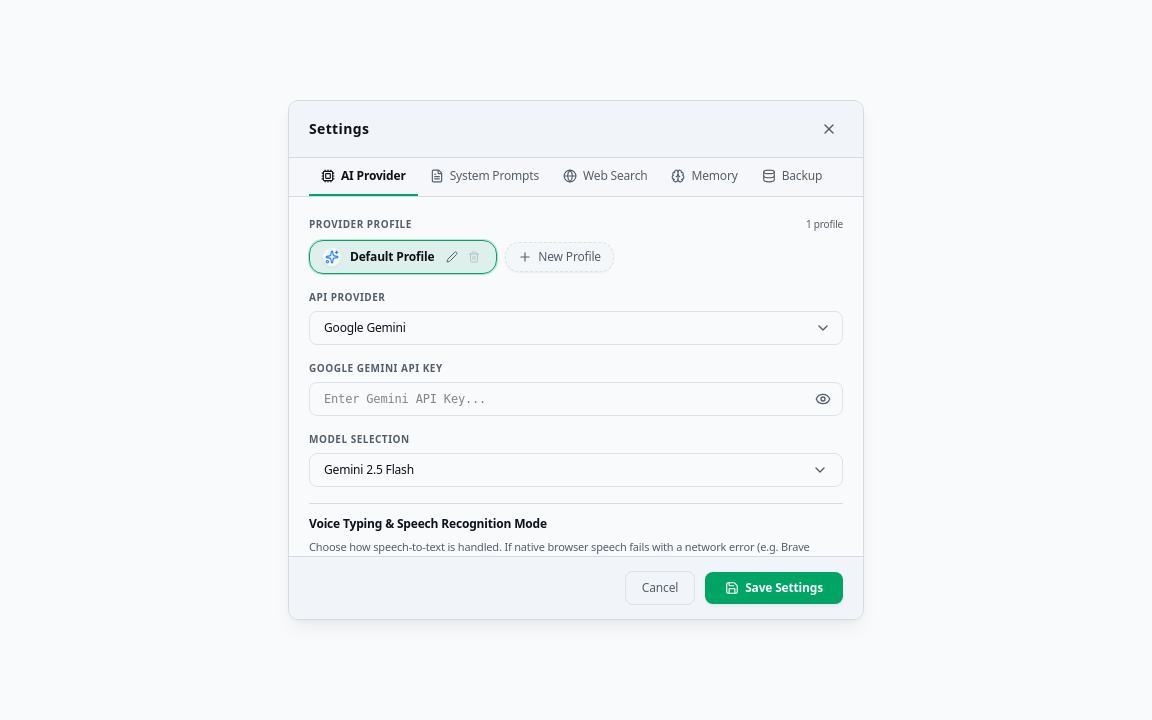
it: SettingsModal Component › renames a profile when edit button is clicked
This screenshot has width=1152, height=720.
Step 1. Click the button titled "Rename profile" → coordinates (452, 257), box [442,247,462,267]
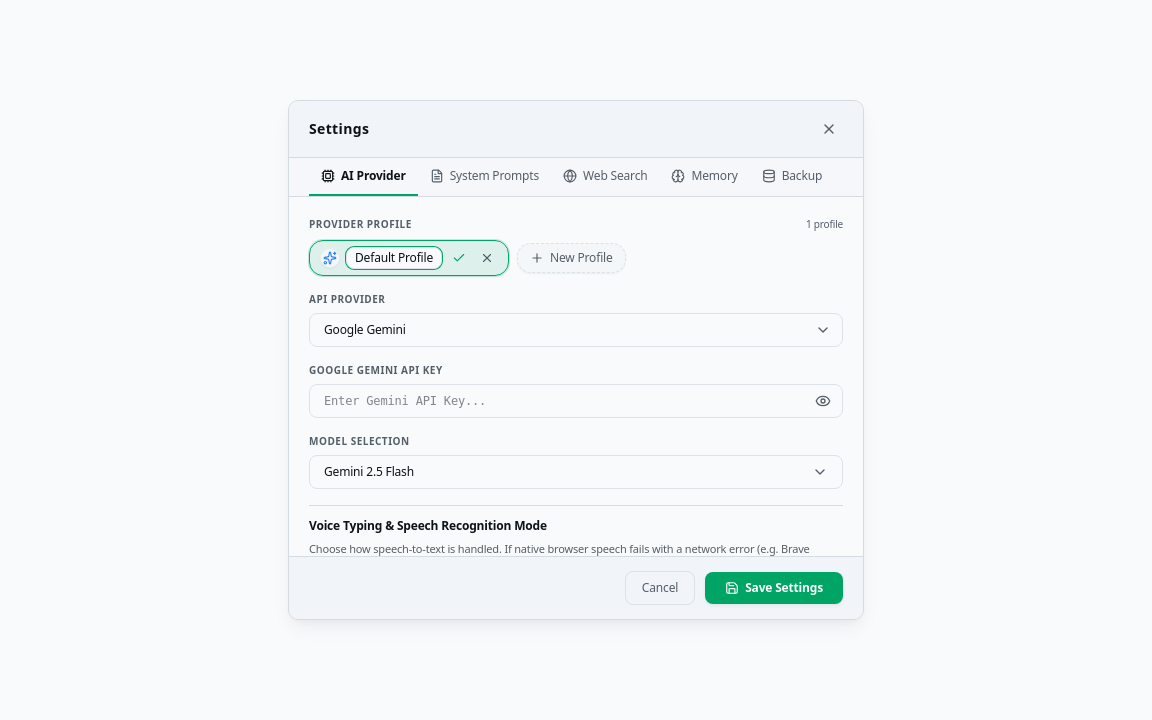
Step 2. Replace the text in the field showing "Default Profile" with "Personal Gemini" → coordinates (394, 258), box [346,247,442,269]
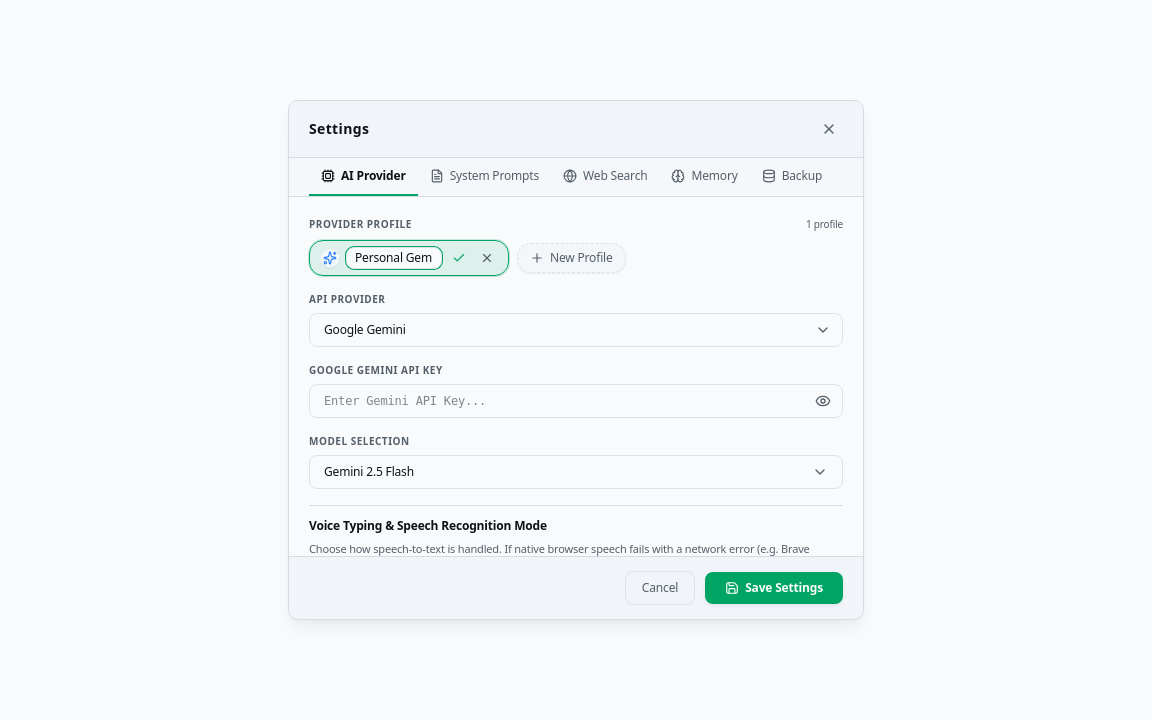
Step 3. Click the button titled "Save name" → coordinates (459, 258), box [448,247,470,269]
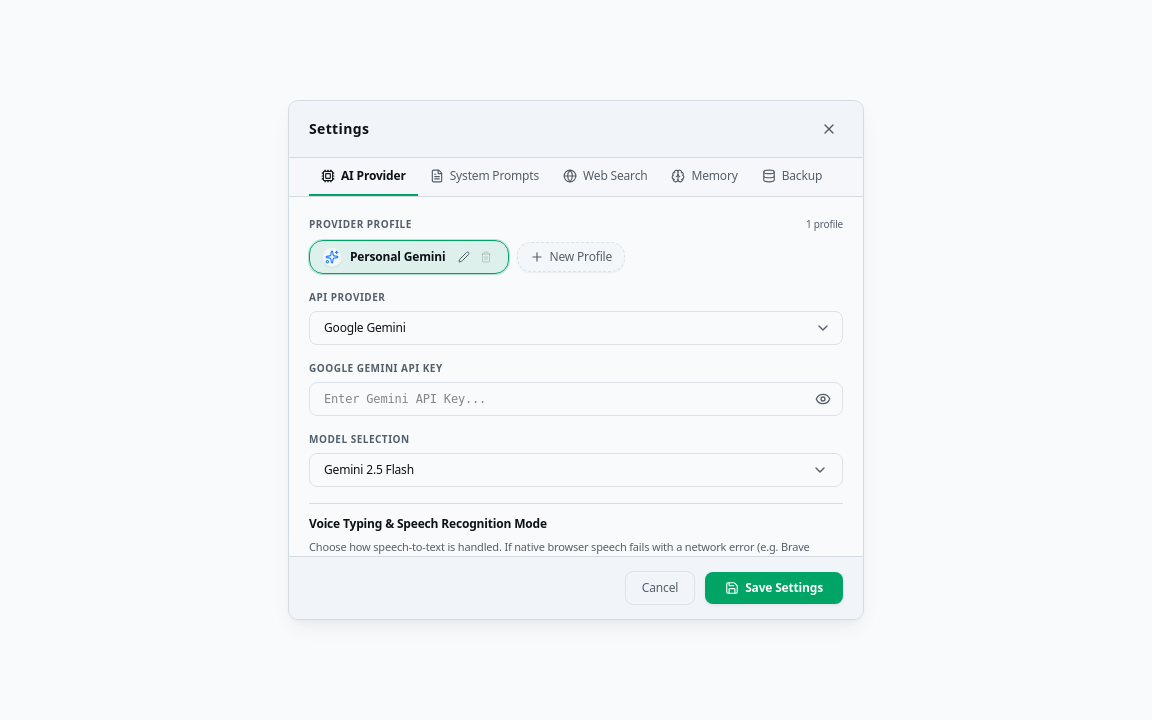
Expected: the text "Personal Gemini" is shown, [350,249,446,265]
